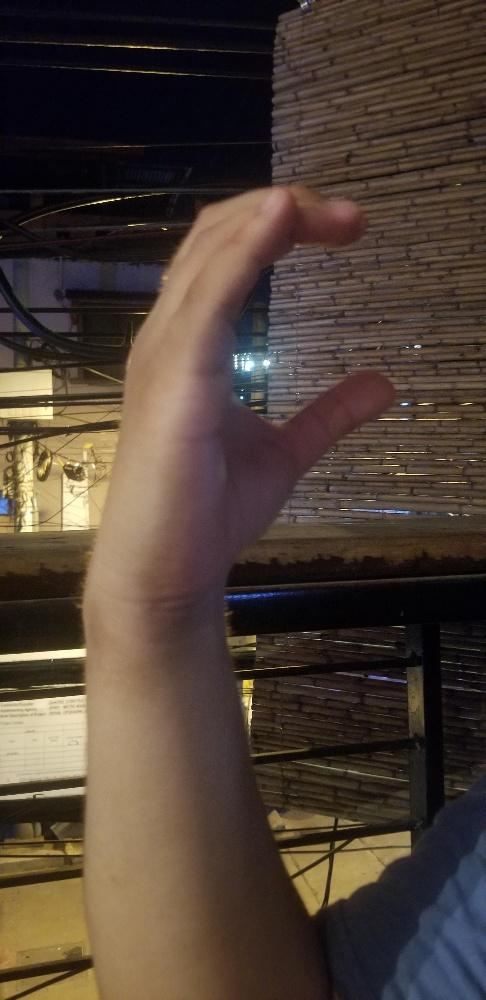c: (92, 184, 396, 563)
